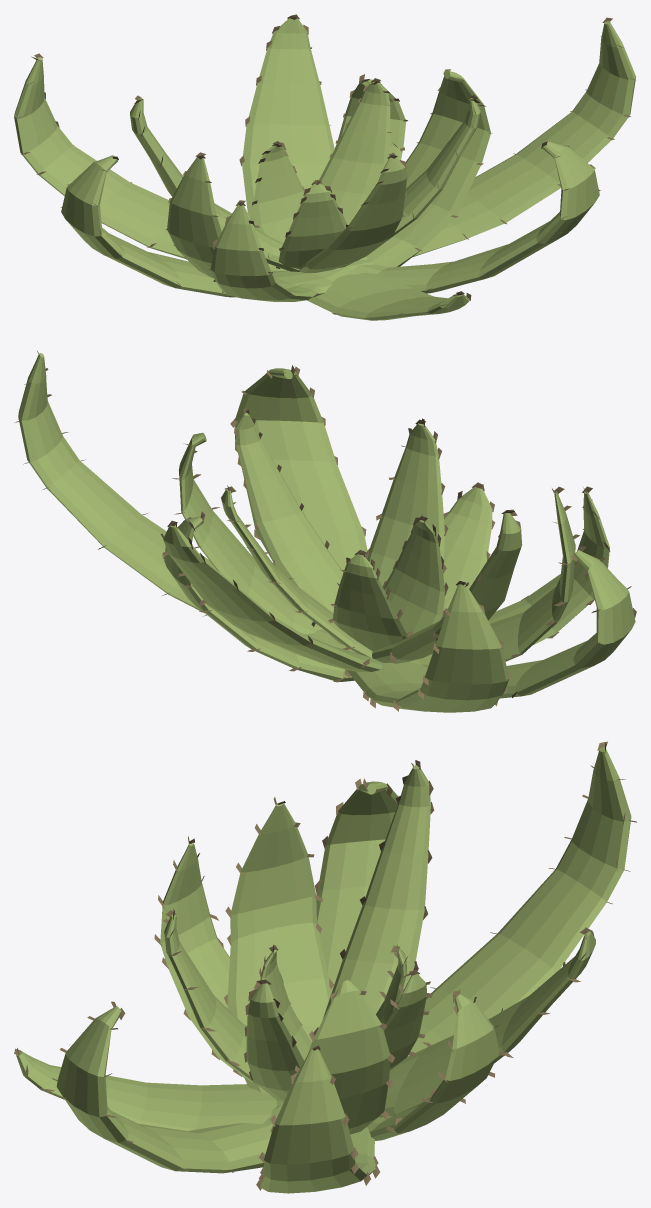
The model's file is kaktus 3.fbx.
The picture shows the model from 3 angles, top to bottom: view 1: azimuth 30°, elevation 25°; view 2: azimuth 150°, elevation 25°; view 3: azimuth 270°, elevation 25°; orthographic projection. The views are drawn at different scales.
Parts seen in each view (by area): view 1: Cylinder.011; view 2: Cylinder.011; view 3: Cylinder.011.
Boxes of the visible parts, x1,y1,x2,y2 form: Cylinder.011: (14,18,635,320); Cylinder.011: (18,353,635,712); Cylinder.011: (16,747,631,1193).
Bounding box in the file's own units: 669 × 245 × 506.
